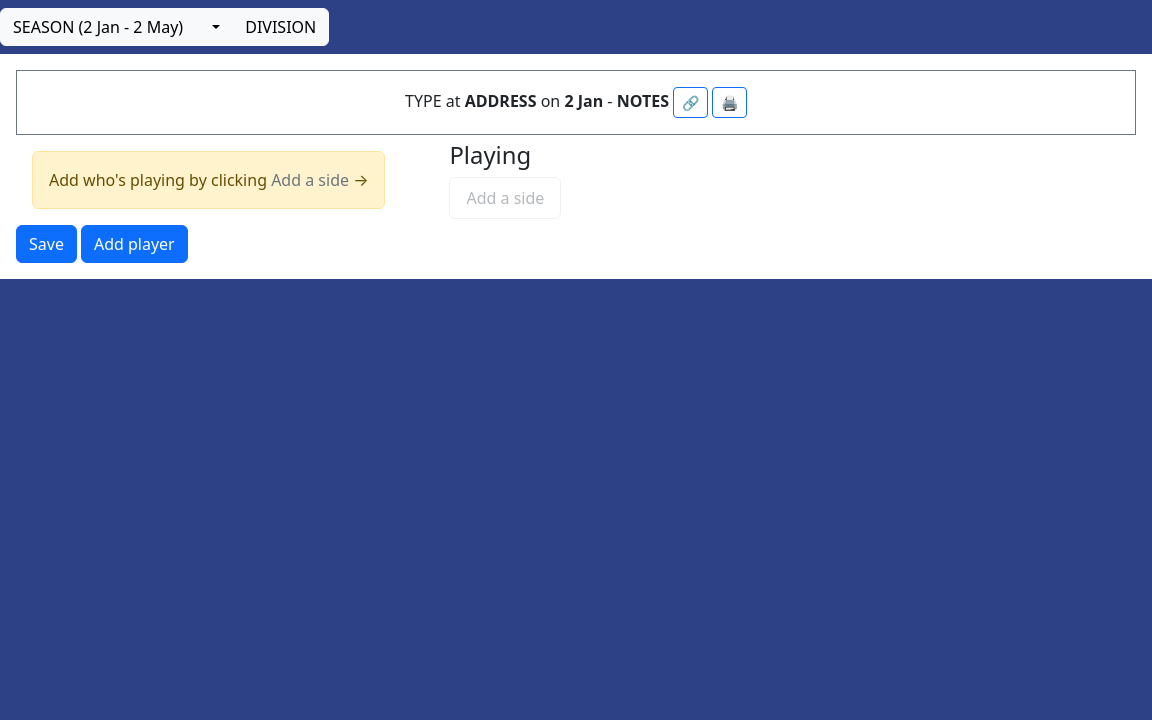
Tournament › interactivity › can cancel add player dialog
Click the button "Add player". click: (134, 244)
box: left=81, top=225, right=188, bottom=263
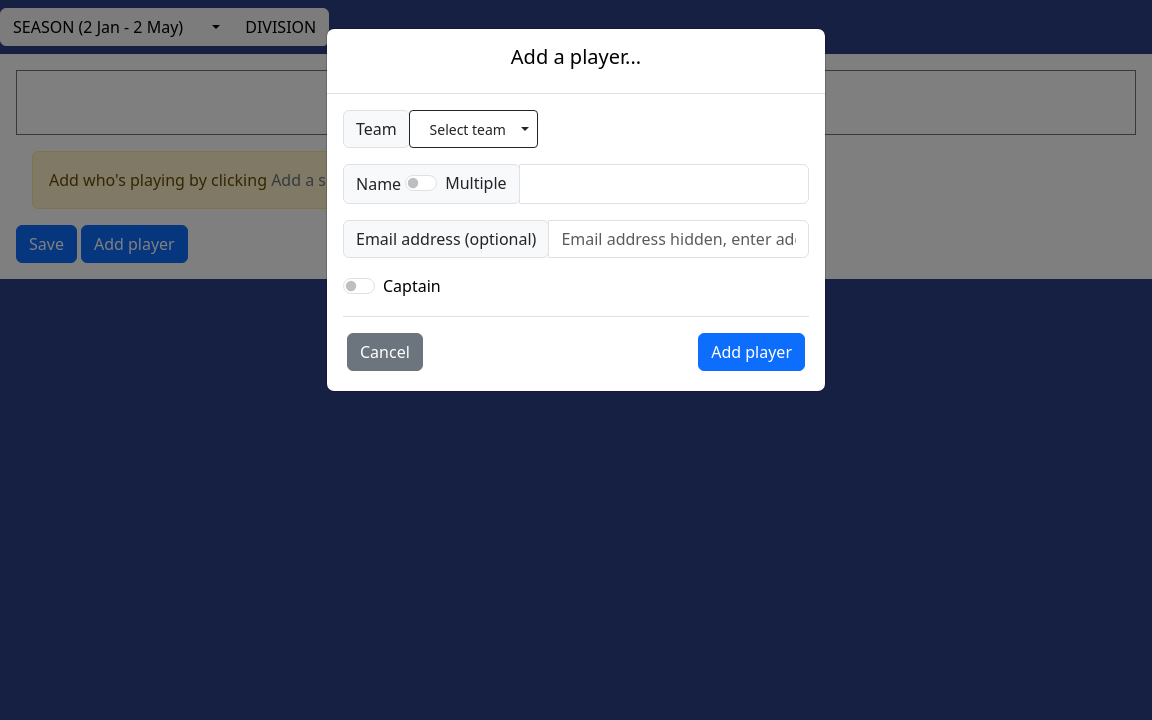
Click the button "Cancel". click: (385, 352)
box: left=347, top=333, right=423, bottom=371
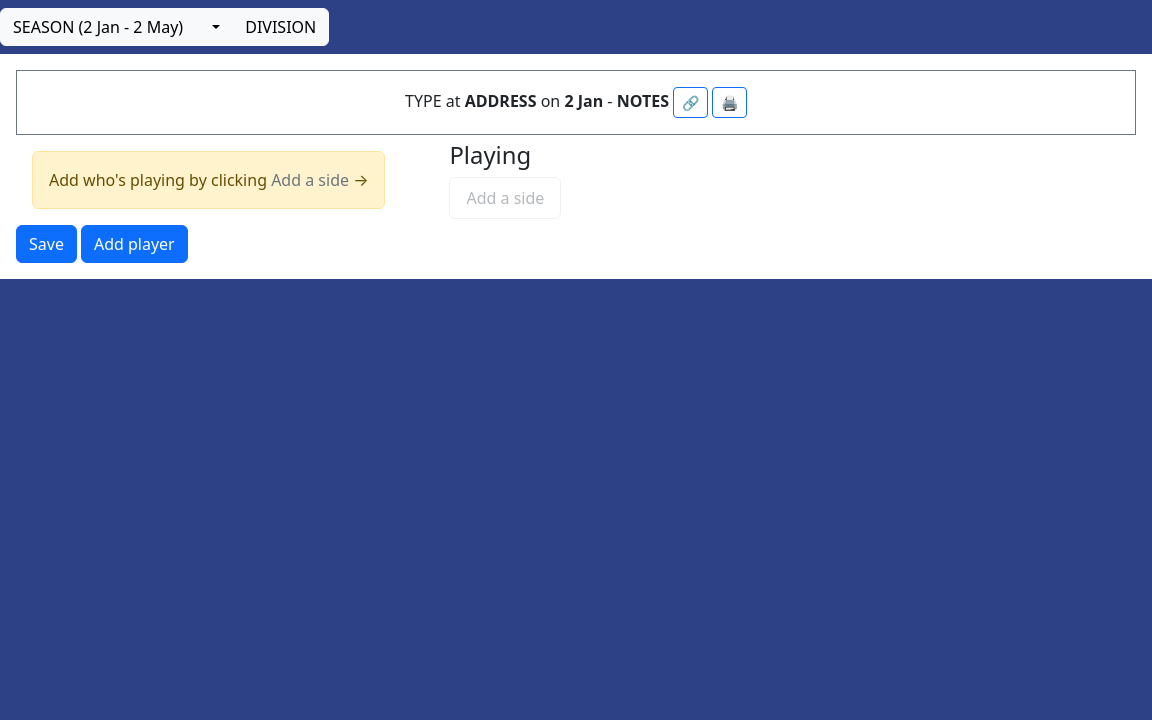
expect the element with class "modal-dialog" is gone: met
